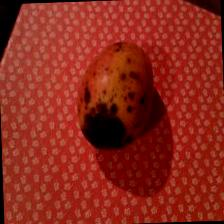Mango Overripe: (72, 34, 156, 154)
